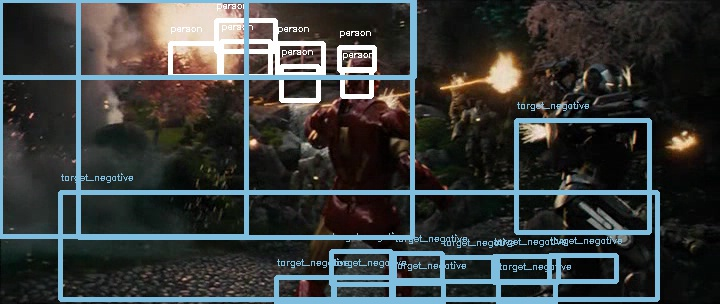person: (337, 52, 382, 95), (336, 52, 381, 95), (338, 52, 383, 95), (337, 51, 382, 94), (337, 53, 382, 96)
target_negative: (187, 78, 433, 287), (336, 246, 608, 300), (395, 223, 595, 285), (253, 153, 335, 193), (616, 5, 699, 26), (684, 284, 689, 288)
